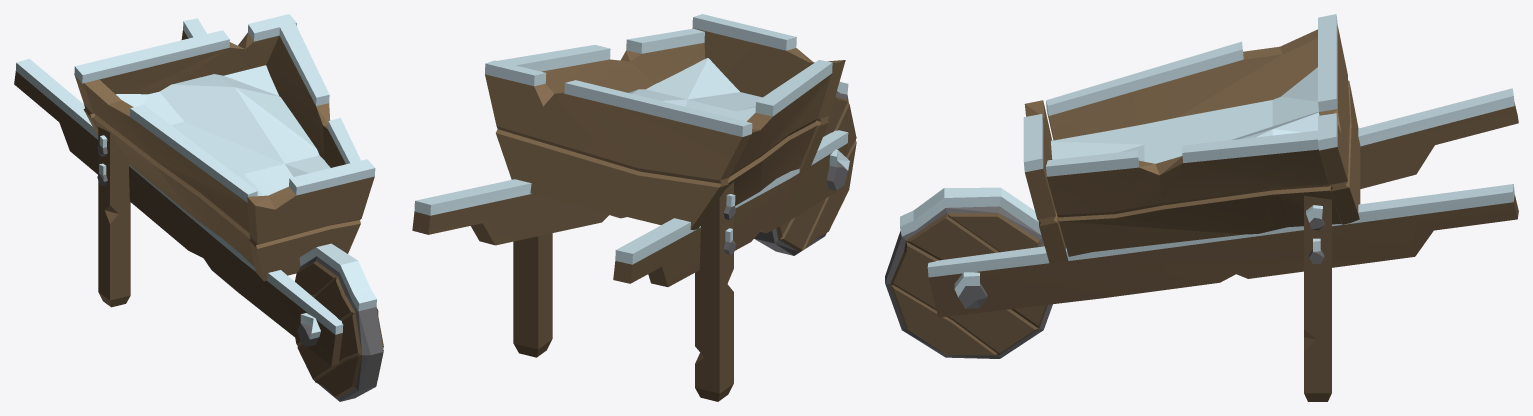
The model's file is Carretilla02.glb.
The picture shows the model from 3 angles, left to right: view 1: azimuth 30°, elevation 25°; view 2: azimuth 150°, elevation 25°; view 3: azimuth 270°, elevation 25°; orthographic projection. The views are drawn at different scales.
Parts seen in each view (by area): view 1: SM_Prop_Wheel_Barrow_01_Snow; view 2: SM_Prop_Wheel_Barrow_01_Snow; view 3: SM_Prop_Wheel_Barrow_01_Snow.
Boxes of the visible parts, <box> form: SM_Prop_Wheel_Barrow_01_Snow: <box>14,14,383,401</box>; SM_Prop_Wheel_Barrow_01_Snow: <box>412,14,856,401</box>; SM_Prop_Wheel_Barrow_01_Snow: <box>885,14,1518,401</box>.
Bounding box in the file's own units: 0.9458 × 1 × 2.06.
Materials: 1 (1 with a texture image).
